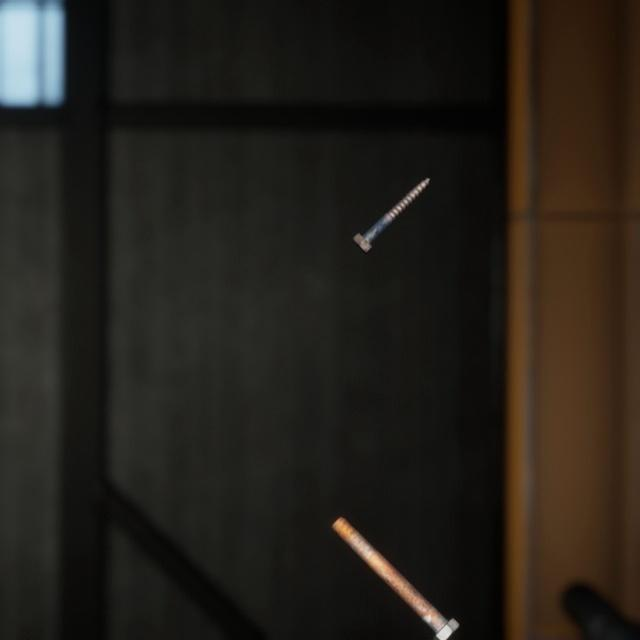bolt: (327, 490, 464, 627), (348, 159, 435, 243)
